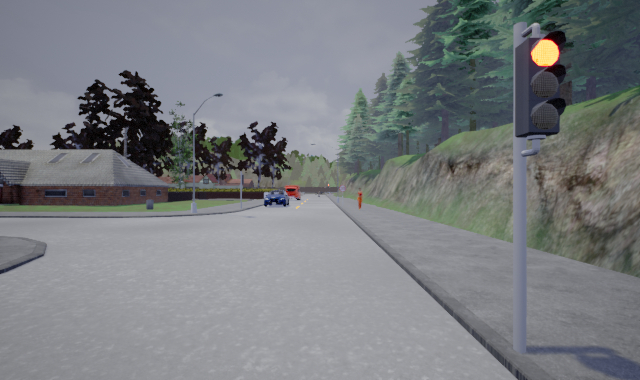pedestrian: (355, 186, 364, 210)
traffic_light: (514, 29, 566, 139)
vehicle: (262, 189, 290, 207), (282, 185, 301, 200)
